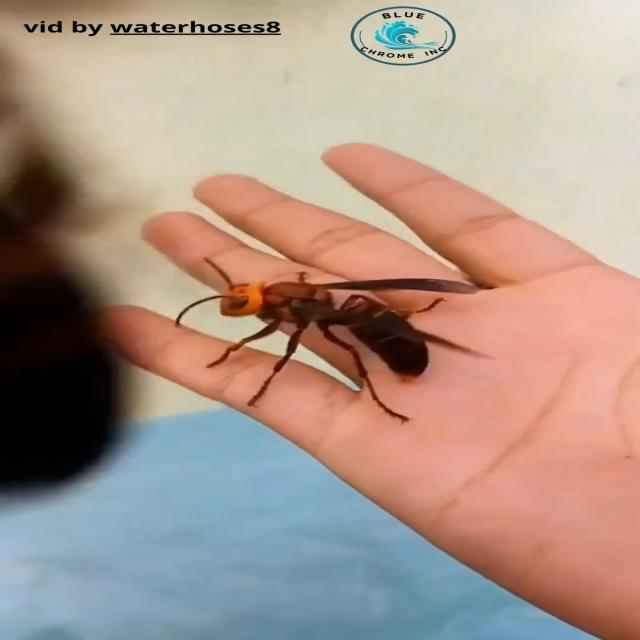Hornets: (171, 256, 494, 425)
